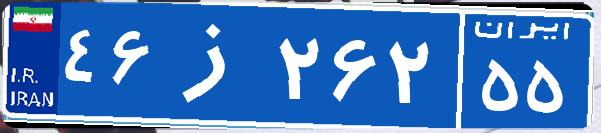2: (385, 28, 445, 110), (273, 28, 330, 110)
4: (57, 26, 110, 107)
5: (475, 38, 525, 113), (525, 38, 570, 115)
6: (330, 28, 385, 110), (110, 28, 158, 105)
ز: (158, 15, 273, 115)
